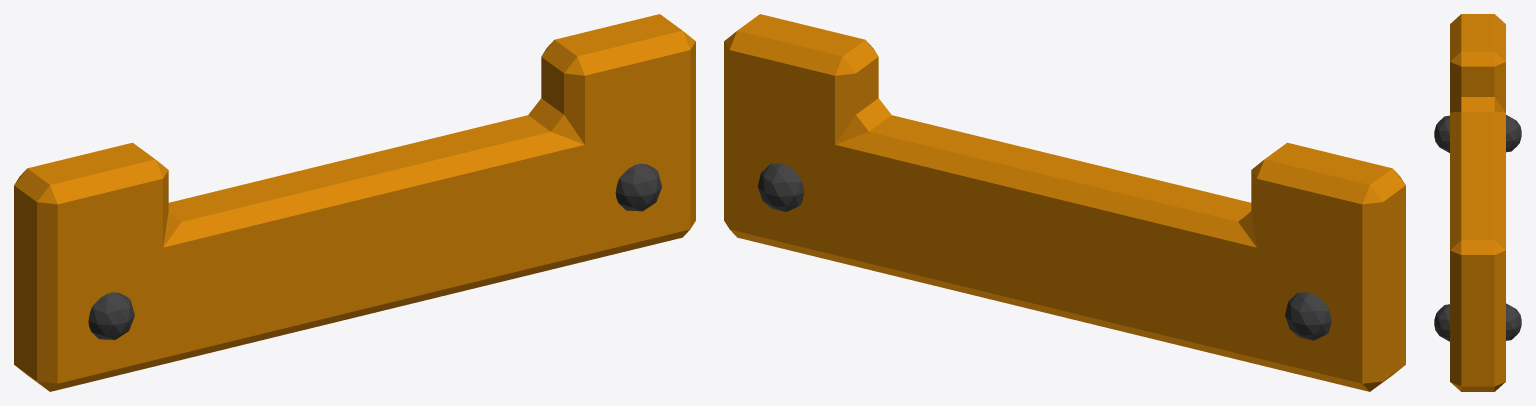
Rendered from BarBracketD.fbx.
The picture shows the model from 3 angles, left to right: view 1: azimuth 30°, elevation 25°; view 2: azimuth 150°, elevation 25°; view 3: azimuth 270°, elevation 25°; orthographic projection. The views are drawn at different scales.
Visible parts, largest first — view 1: BarD; view 2: BarD; view 3: BarD.
Boxes of the visible parts, bbox=[...] form: BarD: bbox=[14, 14, 695, 391]; BarD: bbox=[724, 14, 1405, 391]; BarD: bbox=[1434, 14, 1521, 391].
Bounding box in the file's own units: 1000 × 300 × 157.
